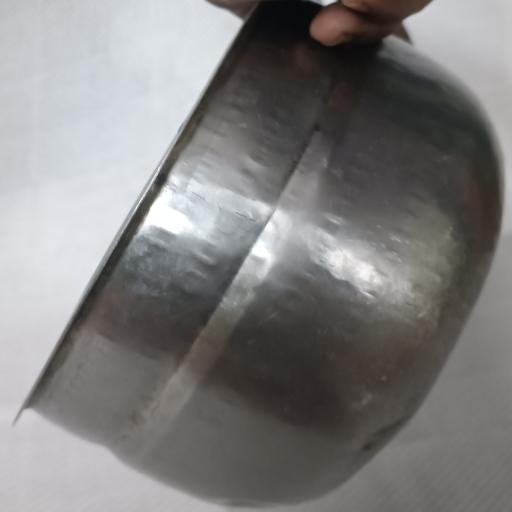vessel: (25, 1, 502, 505)
